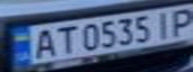0: (78, 20, 103, 52)
3: (115, 16, 139, 46)
5: (130, 12, 157, 44), (96, 17, 121, 48)
A: (24, 26, 60, 60)
I: (148, 9, 175, 38)
P: (166, 6, 193, 37)
T: (51, 24, 78, 55)
